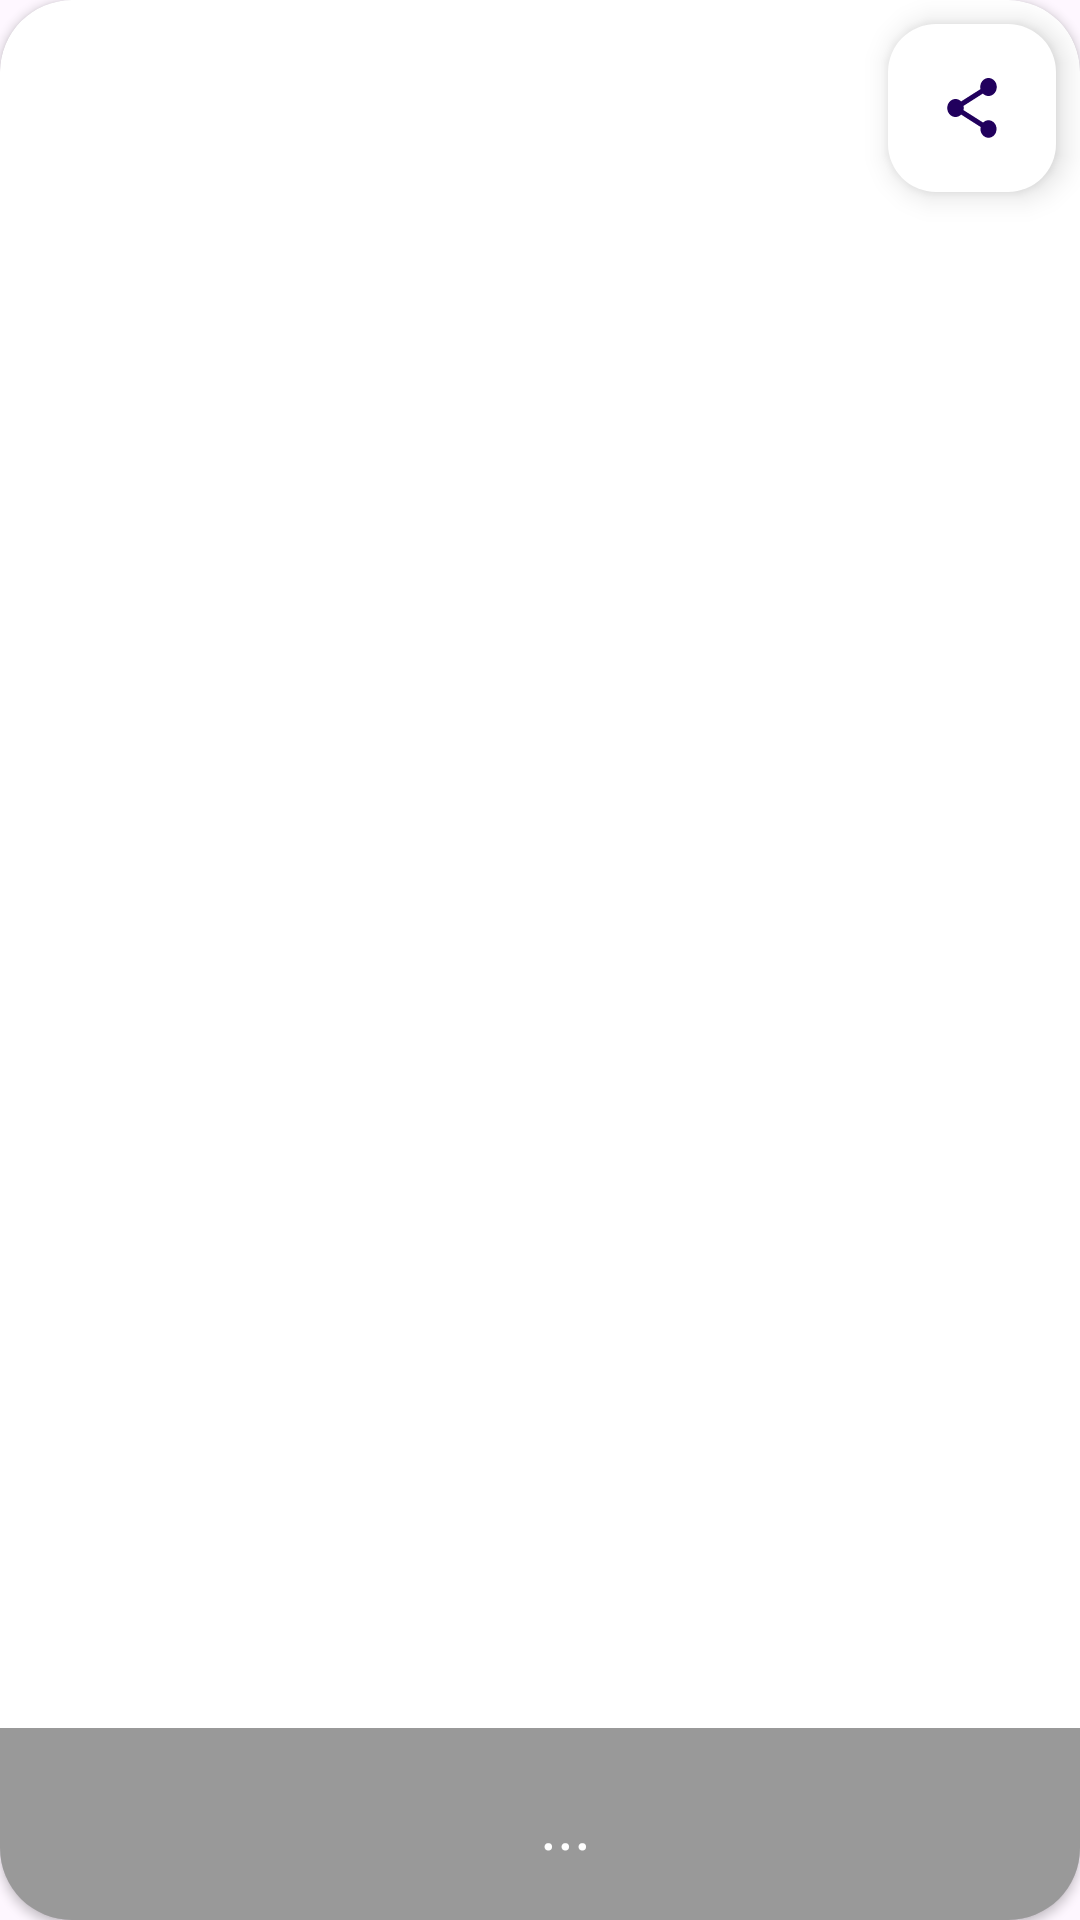

Icon bounding boxes for this 1080x1920 phone screenshot, format bbox=[x1, y1, x2, y2]:
share: bbox=[926, 24, 1056, 192]
